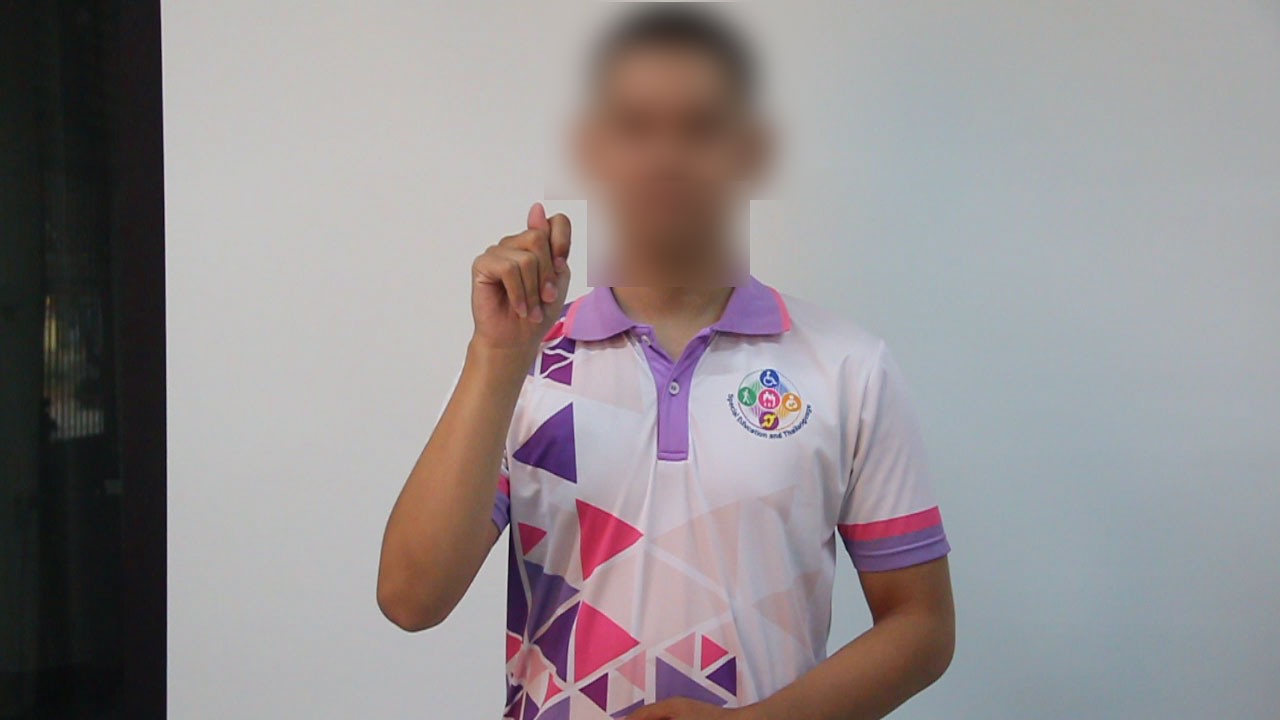tor: (447, 198, 590, 361)
